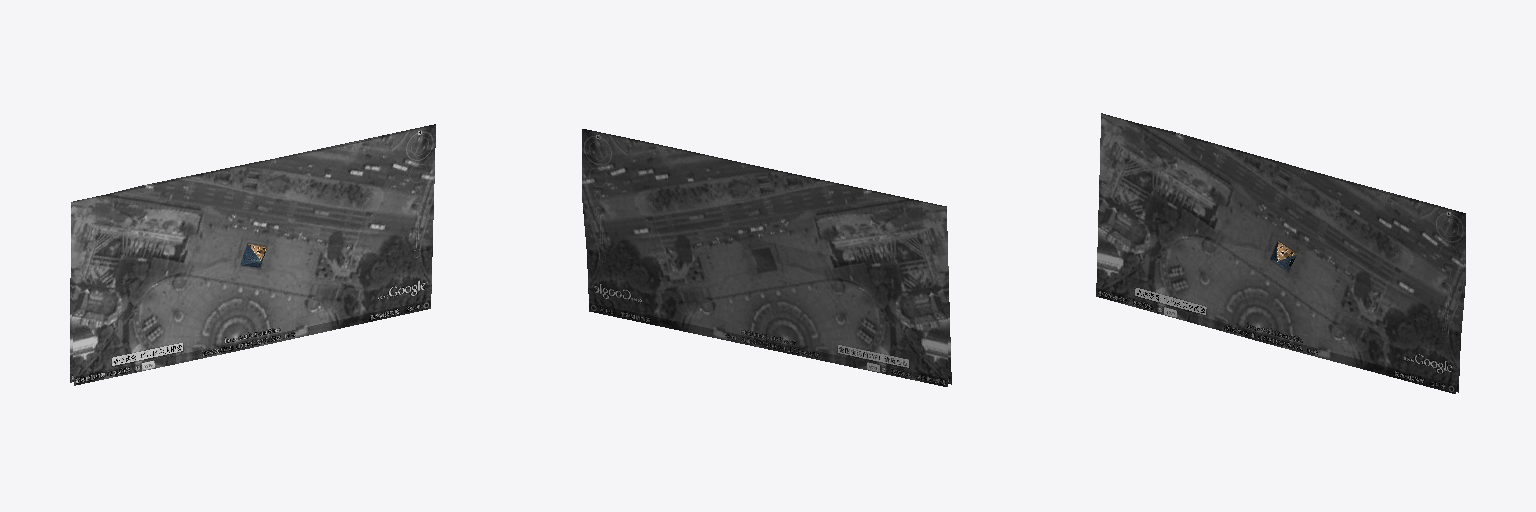
The picture shows the model from 3 angles: view 1: azimuth 30°, elevation 25°; view 2: azimuth 150°, elevation 25°; view 3: azimuth 330°, elevation 25°; orthographic projection.
Visible parts, largest first — view 1: Google Earth Terrain, Google Earth Snapshot; view 2: Google Earth Snapshot, Google Earth Terrain; view 3: Google Earth Terrain, Google Earth Snapshot.
Boxes of the visible parts, x1,y1,x2,y2 form: Google Earth Terrain: [71, 124, 435, 385]; Google Earth Snapshot: [70, 125, 435, 382]; Google Earth Snapshot: [582, 129, 947, 386]; Google Earth Terrain: [582, 129, 951, 384]; Google Earth Terrain: [1096, 113, 1465, 393]; Google Earth Snapshot: [1101, 113, 1465, 392].
Bounding box in the file's own units: 1022242 × 512750 × 38932.
Materials: 7 (6 with a texture image).